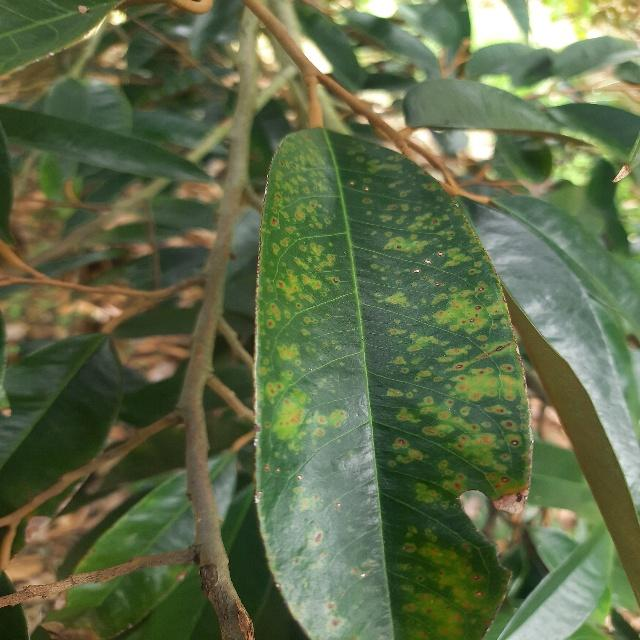Leaf Spot: (247, 109, 542, 640)
